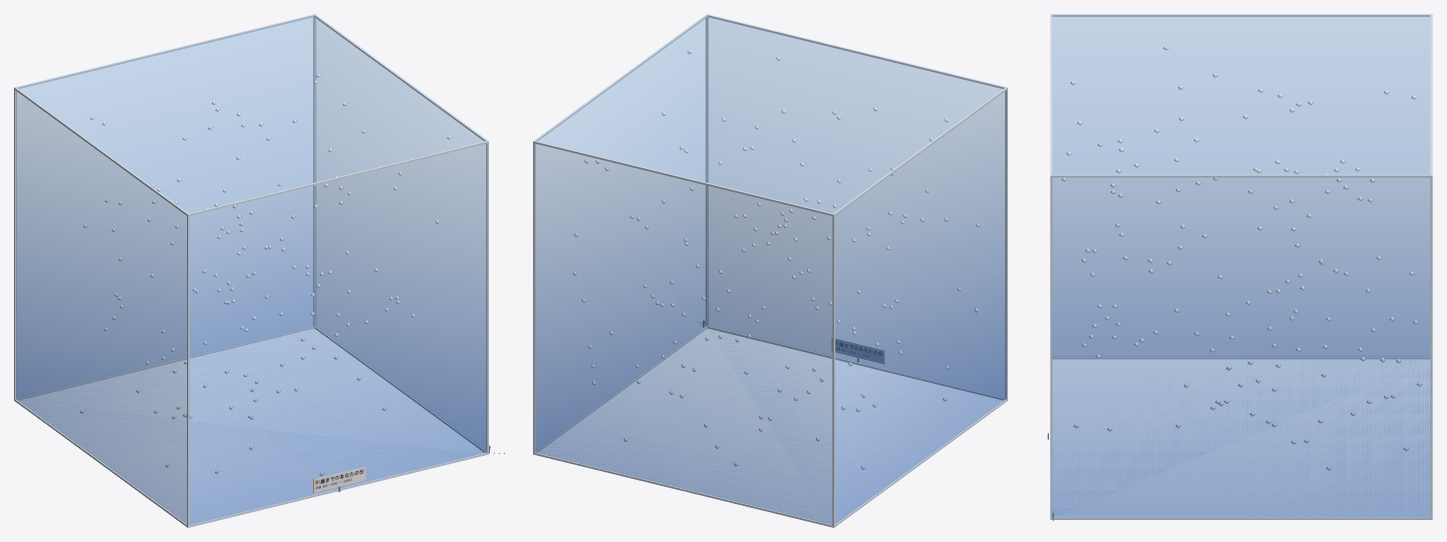
The model's file is cube_life_91.glb.
3 views of the same model, side by side, from view 1: azimuth 30°, elevation 25°; view 2: azimuth 150°, elevation 25°; view 3: azimuth 270°, elevation 25° (orthographic). The views are drawn at different scales.
Parts seen in each view (by area): view 1: co2, edge, dots, label; view 2: co2, edge, dots, label; view 3: co2, edge, dots.
Part boxes in pixels (x1,y1,x2,y2): co2: (16, 15, 486, 524); edge: (14, 14, 488, 527); dots: (80, 73, 451, 476); label: (313, 466, 365, 492); co2: (535, 15, 1005, 524); edge: (533, 14, 1007, 527); dots: (573, 50, 979, 469); label: (835, 339, 884, 363); co2: (1052, 15, 1430, 517); edge: (1050, 14, 1432, 519); dots: (1061, 46, 1422, 470).
Size of the model in its own units: 71.58 by 67.81 by 70.68.
8 materials, 3 textured.
